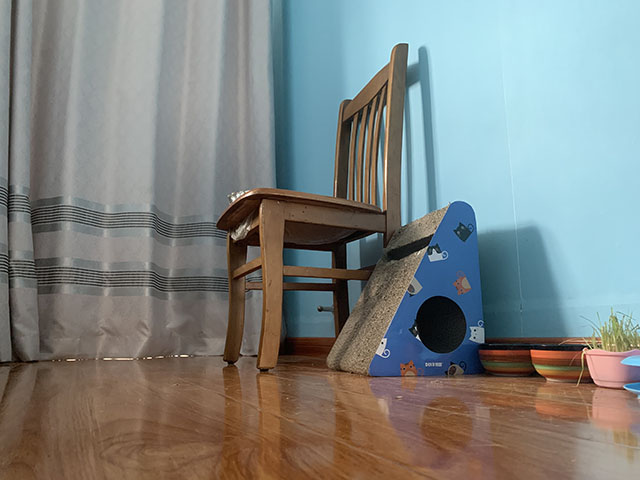curtain: (1, 1, 277, 362)
stool: (214, 42, 409, 373)
